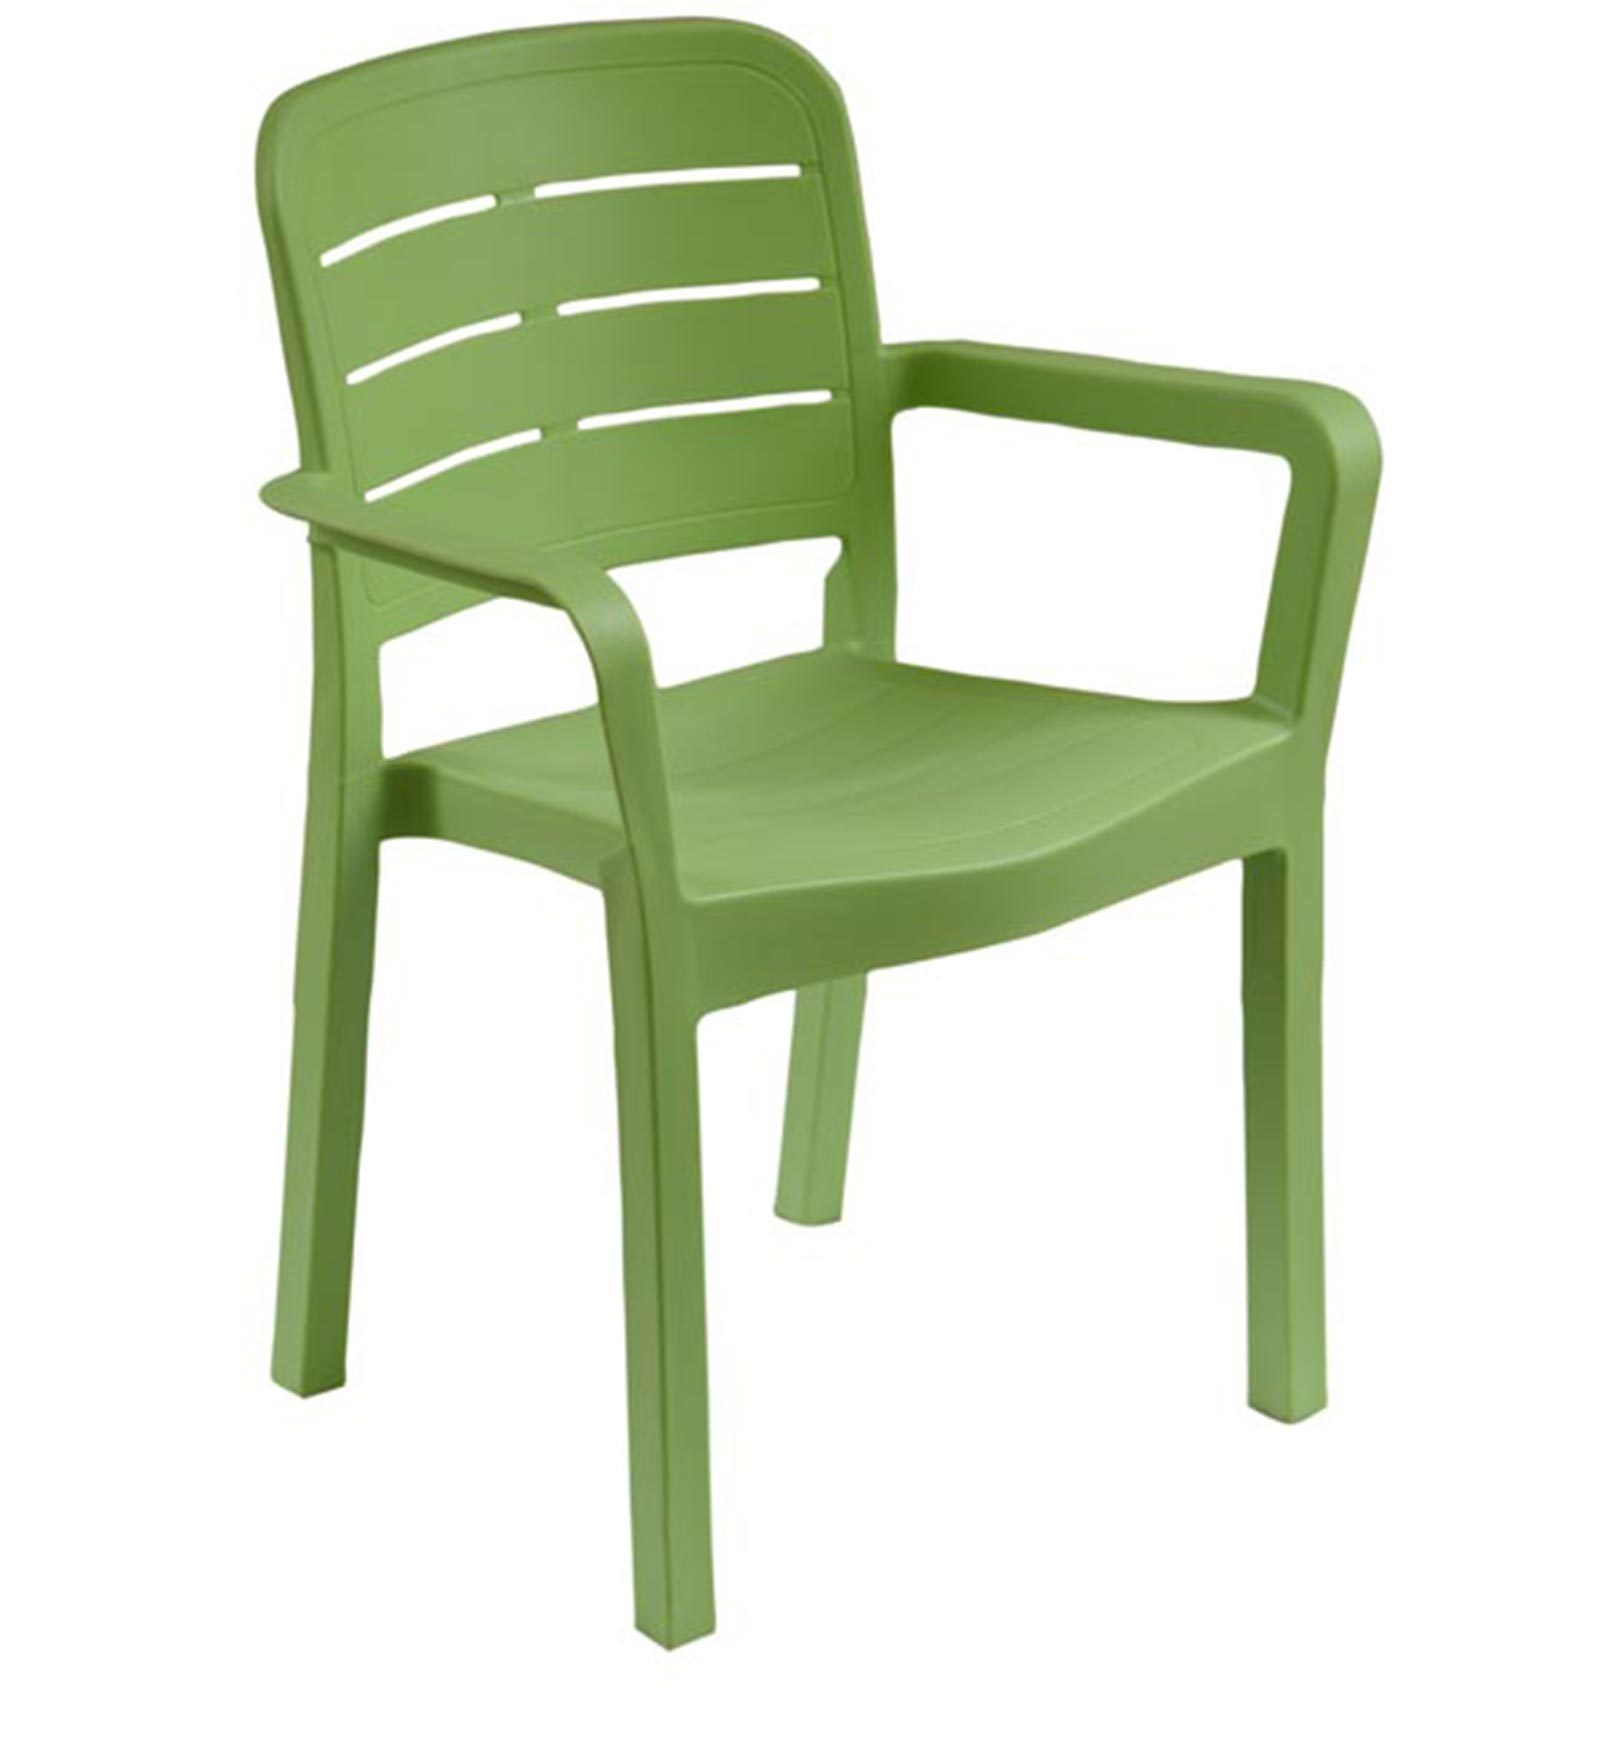Luxury Plastic Chair in Green Colour by Italica Furniture: (239, 9, 1389, 1656)
